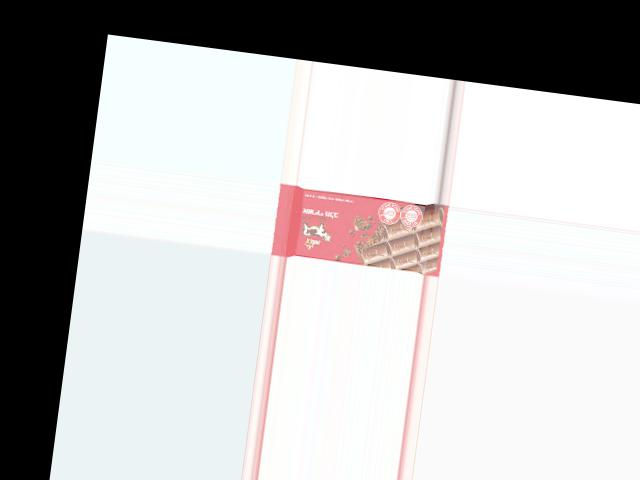chocolate: (269, 183, 447, 275)
